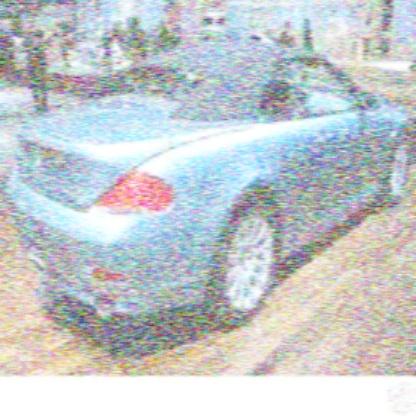Vehicle: (8, 31, 412, 331)
